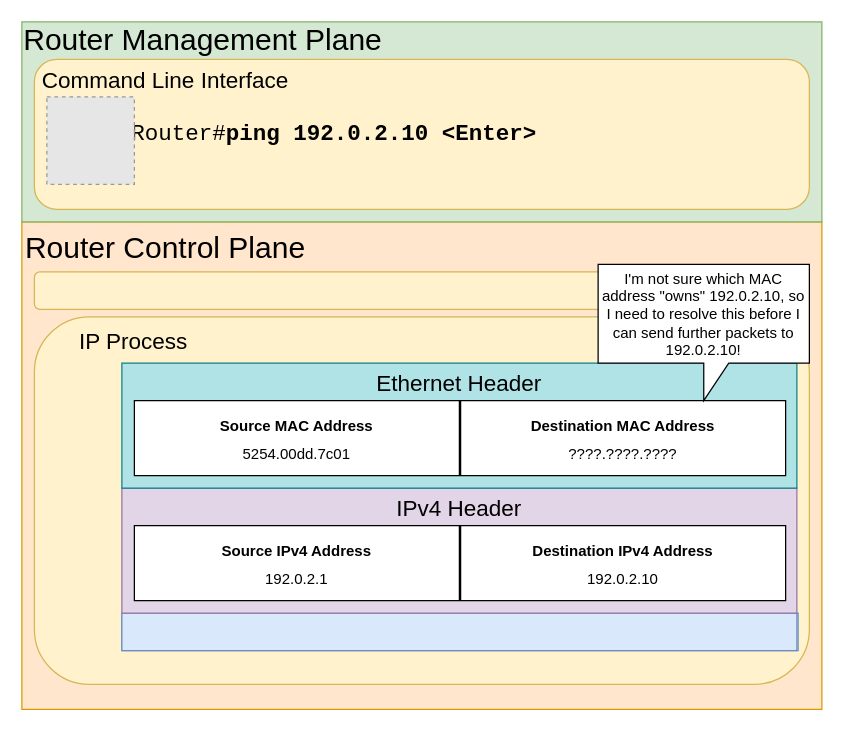
The diagram is 844 pixels wide and 731 high, and some of its shapes have lost their labels. Grey dashed boxes stand in for pictures. Here are the shapes that lost their labels. From the top down, the centre of each, then its label:
At (421,290): "ICMP Process".
At (459,631): "ICMP Datagram".
